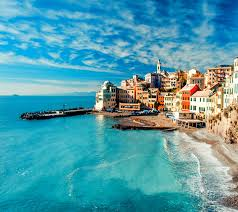beach: (5, 97, 220, 210)
sky: (2, 1, 233, 67)
vilage: (95, 66, 235, 138)
